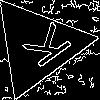K: (13, 21, 74, 76)
